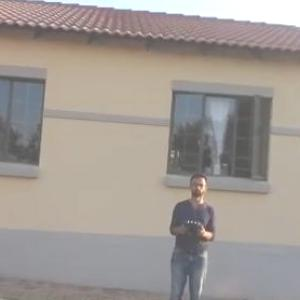follow: (161, 166, 219, 299)
